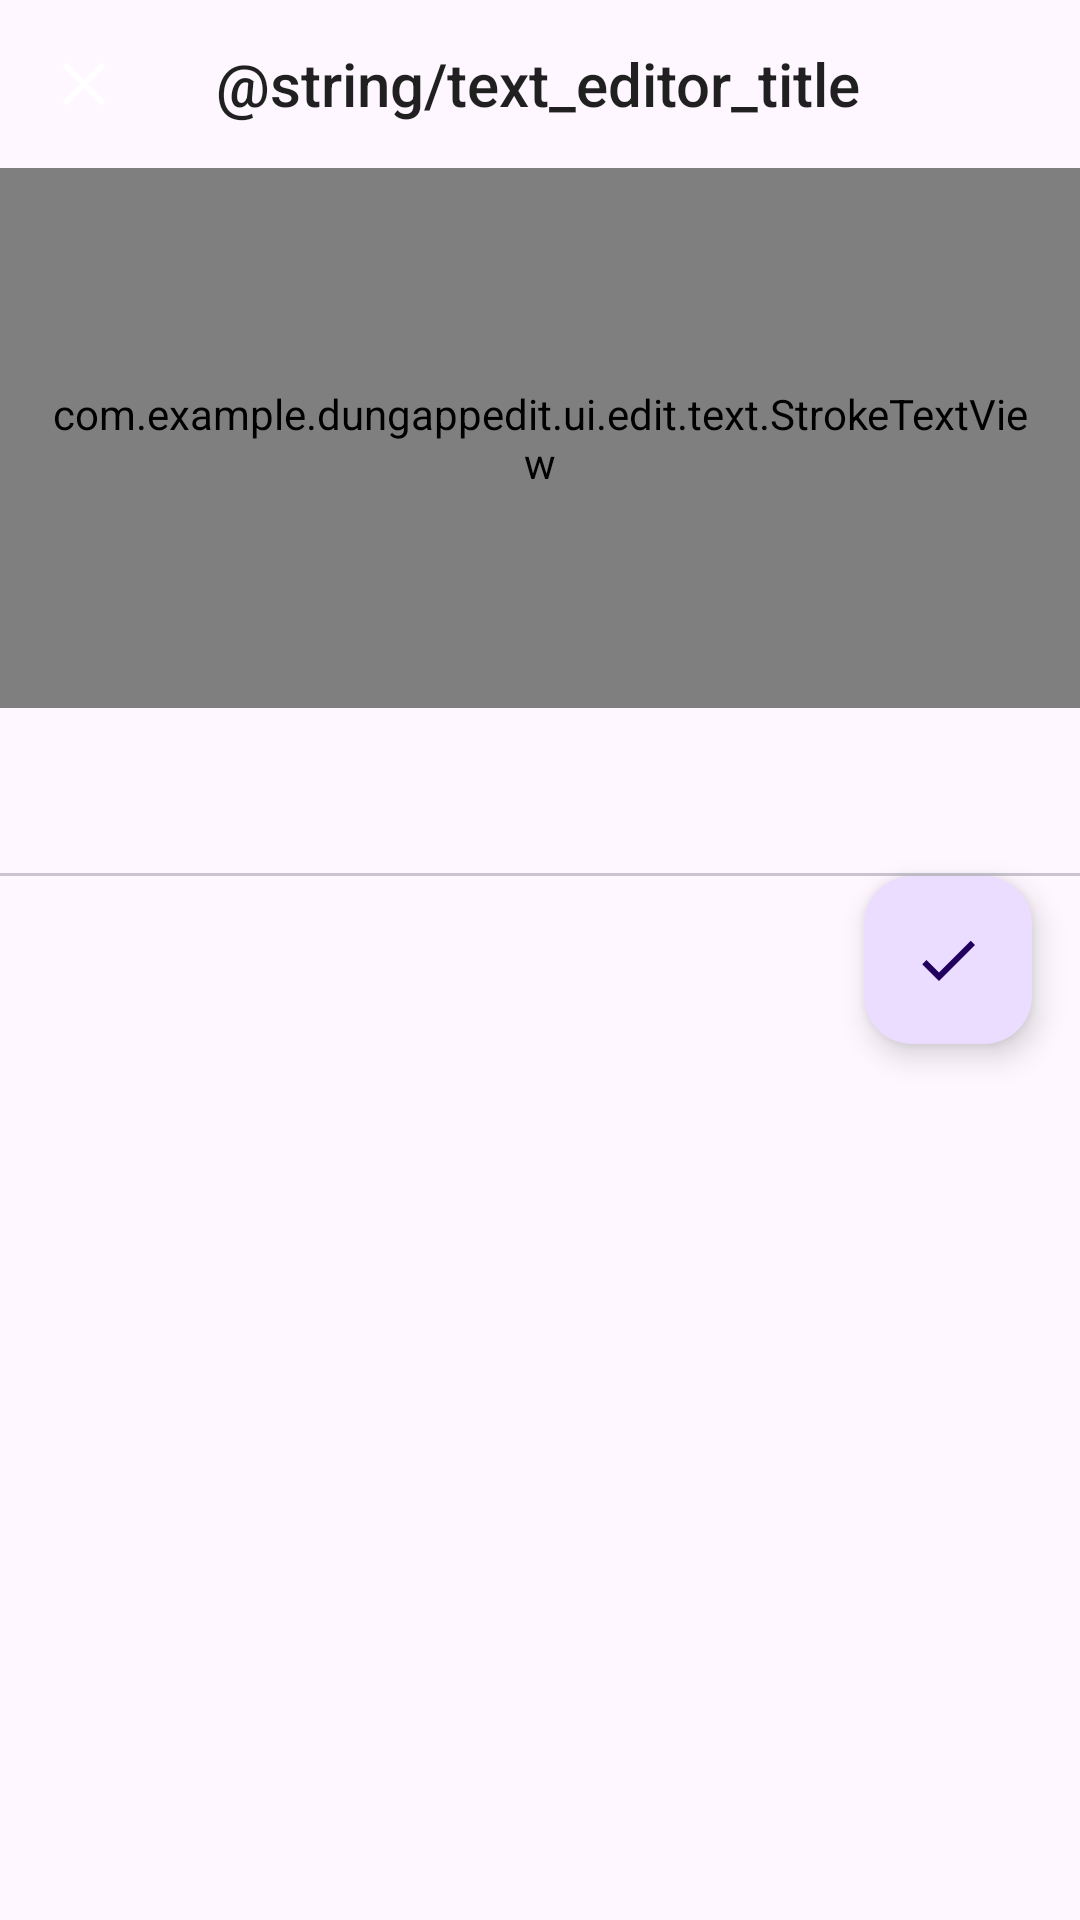

Where to tap for icons on this 1080 x 1920 app screen, as (x,y):
done: (948,960)
